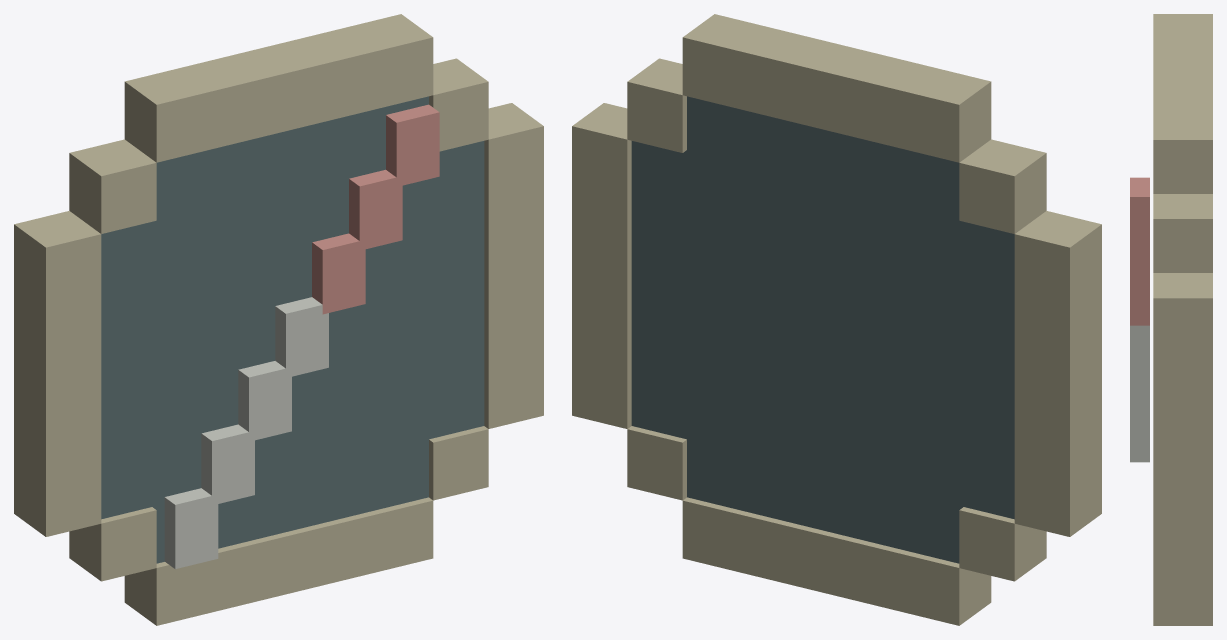
Rendered from item_compass.glb.
3 renders of one model, left to right at view 1: azimuth 30°, elevation 25°; view 2: azimuth 150°, elevation 25°; view 3: azimuth 270°, elevation 25°, orthographic. The views are drawn at different scales.
Visible parts, largest first — view 1: item_compass; view 2: item_compass; view 3: item_compass.
Part boxes in pixels (bbox=[...]): item_compass: bbox=[14, 14, 543, 625]; item_compass: bbox=[572, 14, 1101, 625]; item_compass: bbox=[1130, 14, 1212, 625].
Size of the model in its own units: 1.62 by 1.62 by 0.25.
